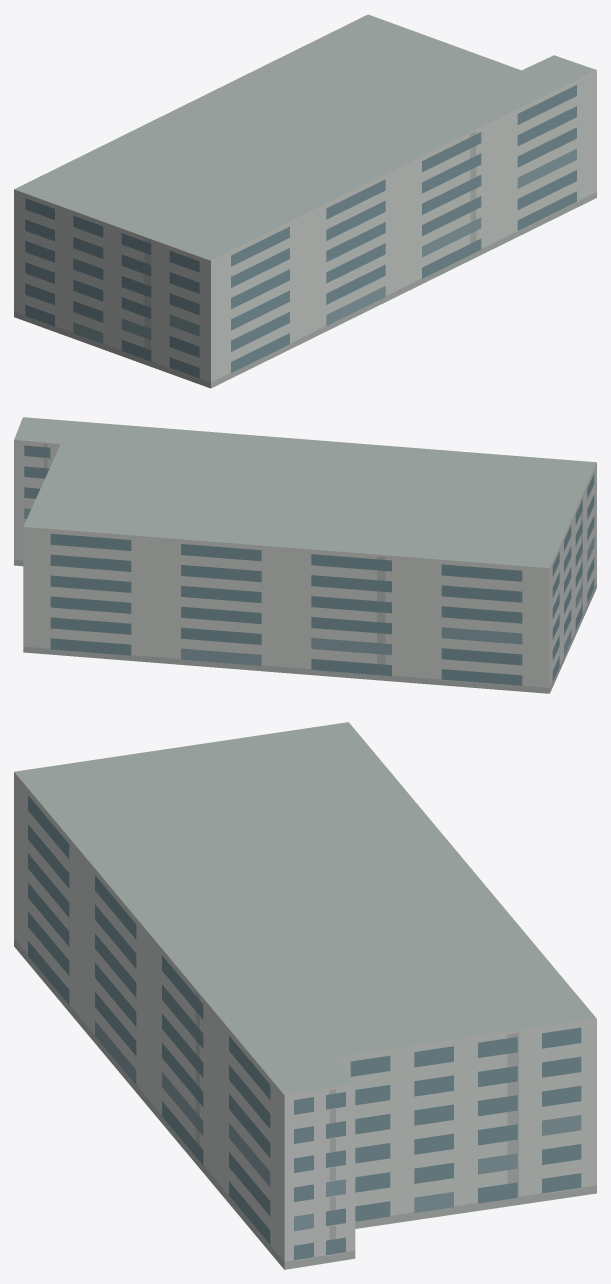
The model's file is survey-upis-32762242.glb.
3 renders of one model, top to bottom at view 1: azimuth 30°, elevation 25°; view 2: azimuth 150°, elevation 25°; view 3: azimuth 270°, elevation 25°, orthographic. The views are drawn at different scales.
Parts seen in each view (by area): view 1: survey-upis-32762242.tmp; view 2: survey-upis-32762242.tmp; view 3: survey-upis-32762242.tmp.
Boxes of the visible parts, bbox=[...] form: survey-upis-32762242.tmp: bbox=[14, 14, 596, 388]; survey-upis-32762242.tmp: bbox=[14, 417, 596, 693]; survey-upis-32762242.tmp: bbox=[14, 722, 596, 1269].
Size of the model in its own units: 83.86 by 18.3 by 55.36.
